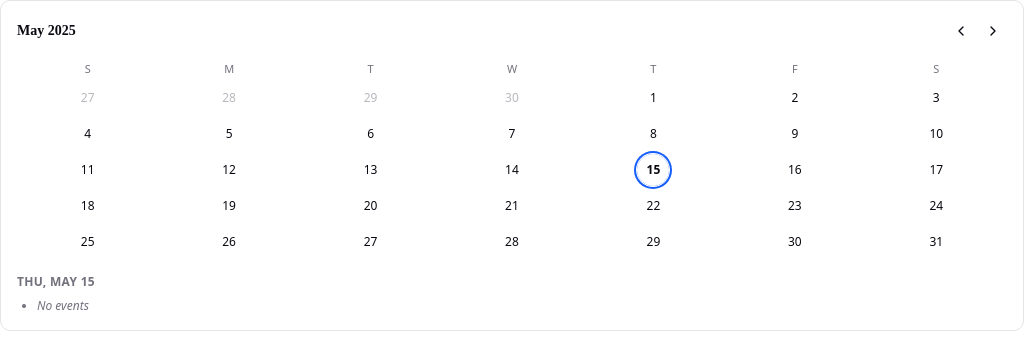
MiniCalendarSidebar › Navigation › advances the view month when an out-of-month padding cell is clicked
Click the 1st button "30": (512, 98) [496,82,528,114]
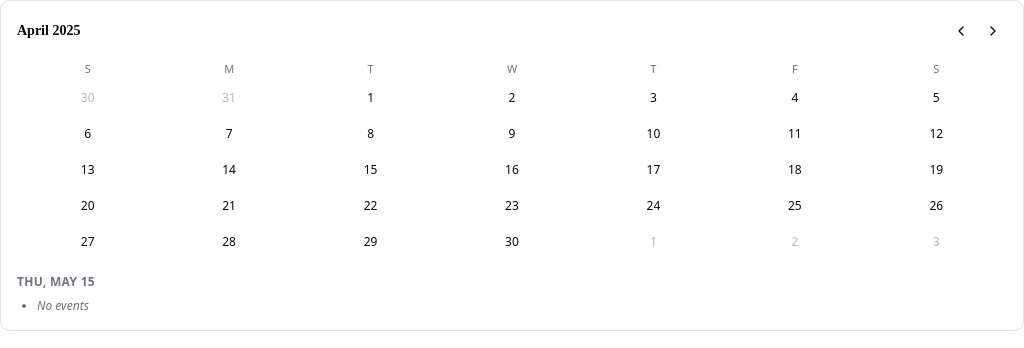
Check: the heading with test id "mini-calendar-header" reads "April 2025", box [17,23,80,38]
